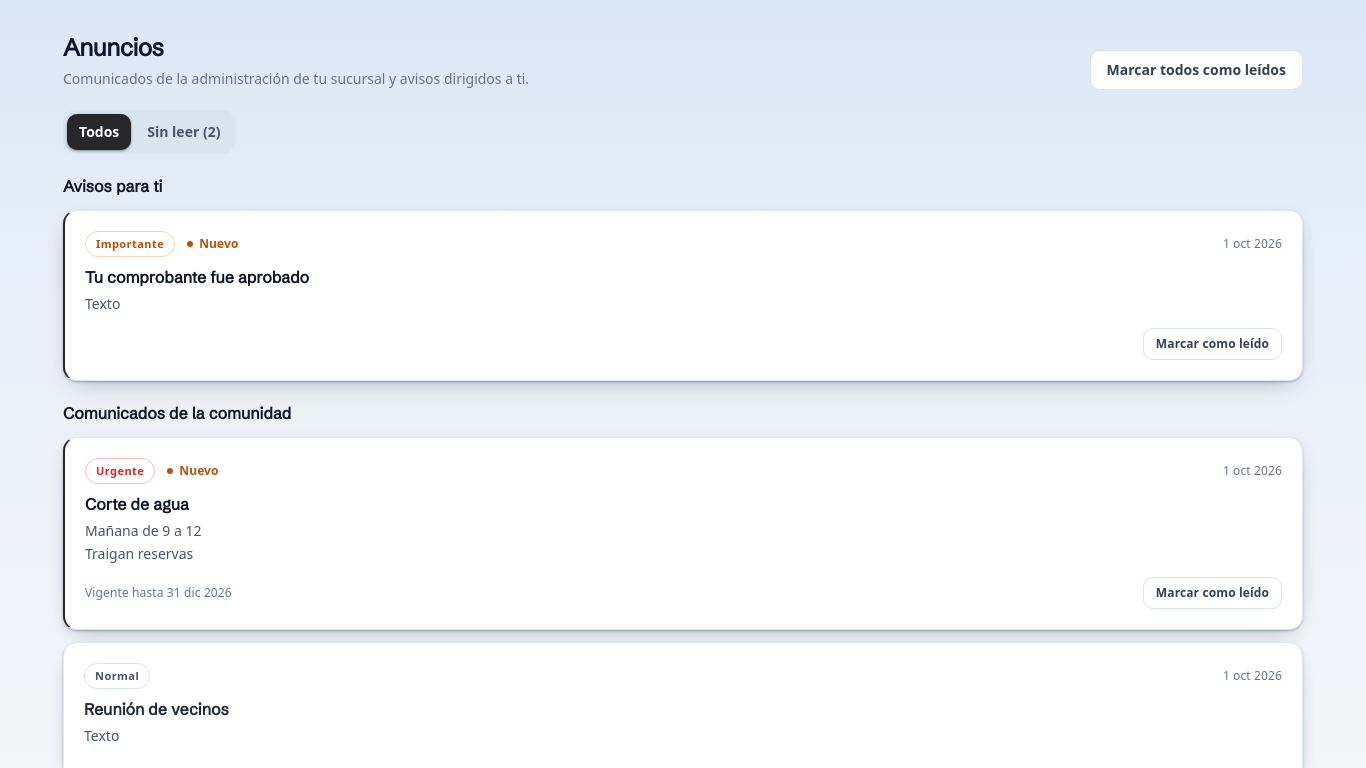
it: MisAnunciosPage › el filtro «Sin leer» deja solo lo pendiente y cuenta cuántos hay
Check: the heading "Corte de agua" is shown, box [85,494,189,514]
Click the button "Sin leer (2)". click: [184, 132]
box: [135,114,232,150]
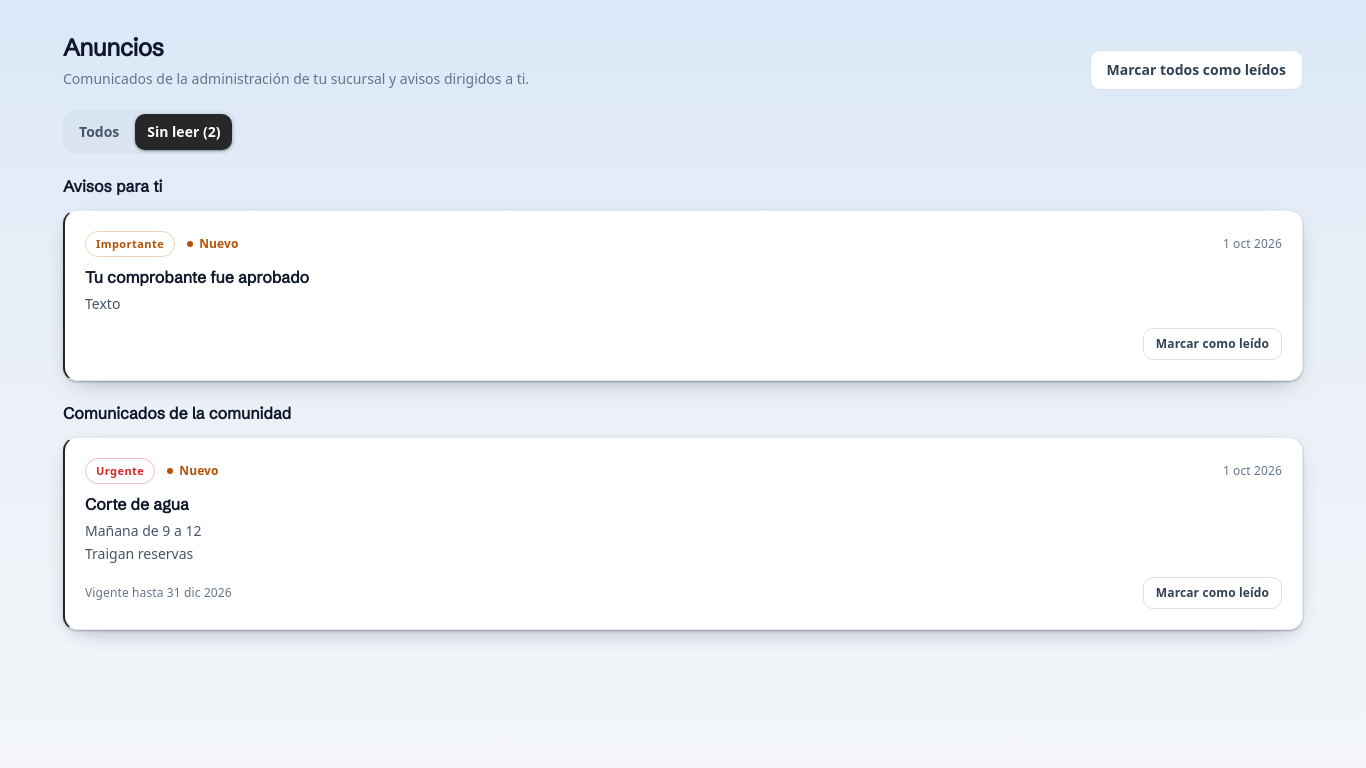
Check: the heading "Corte de agua" is shown, box [85,494,189,514]
Check: the heading "Reunión de vecinos" is gone
